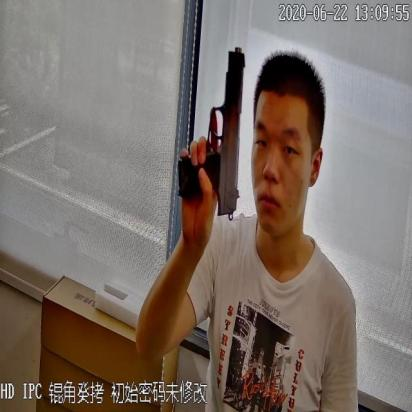Gun: (174, 42, 244, 210)
